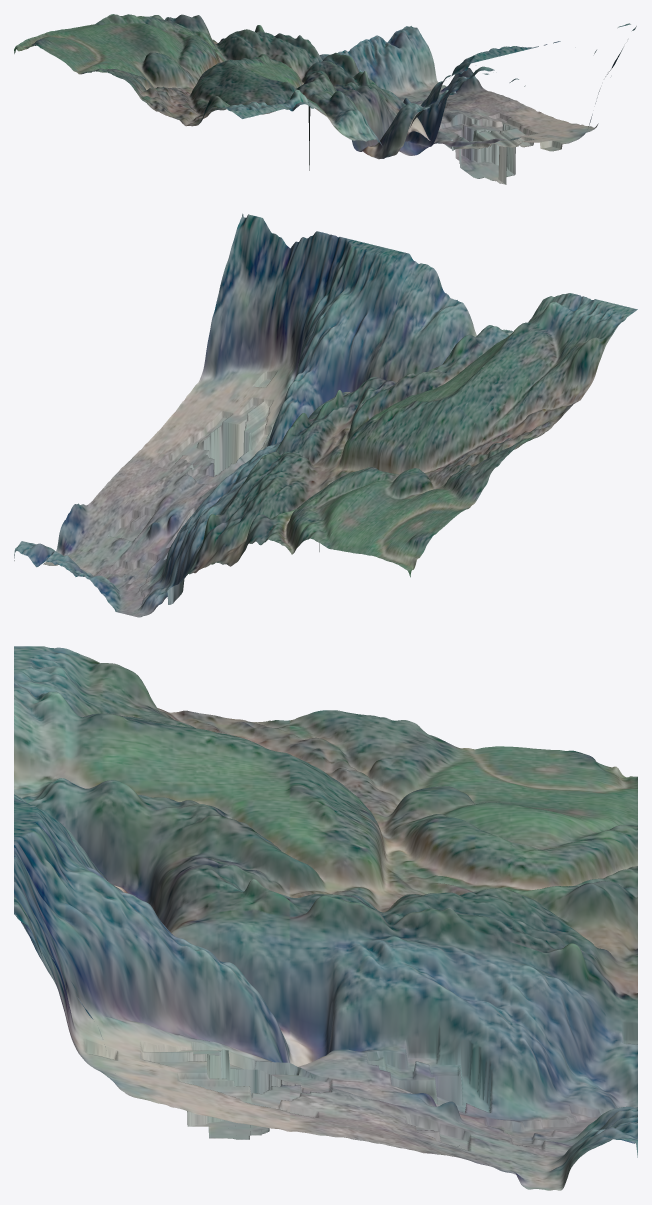
Rendered from dsm_d262bf1f44_mesh.glb.
The picture shows the model from 3 angles, top to bottom: view 1: azimuth 30°, elevation 25°; view 2: azimuth 150°, elevation 25°; view 3: azimuth 270°, elevation 25°; orthographic projection. The views are drawn at different scales.
Parts seen in each view (by area): view 1: geometry_0; view 2: geometry_0; view 3: geometry_0.
Boxes of the visible parts, box(x1,y1,x2,y2) form: geometry_0: box(14, 14, 636, 184); geometry_0: box(14, 213, 637, 617); geometry_0: box(14, 646, 637, 1190).
Size of the model in its own units: 2 by 1 by 2.
